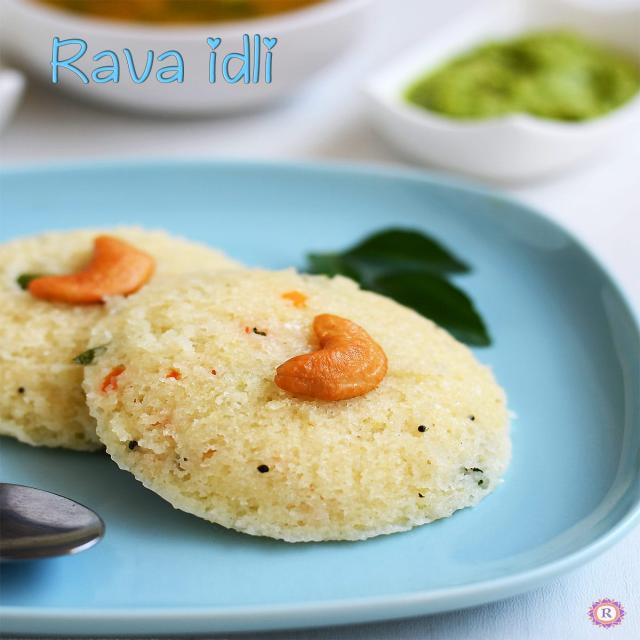rave idli: (78, 263, 520, 555), (0, 218, 229, 466)
